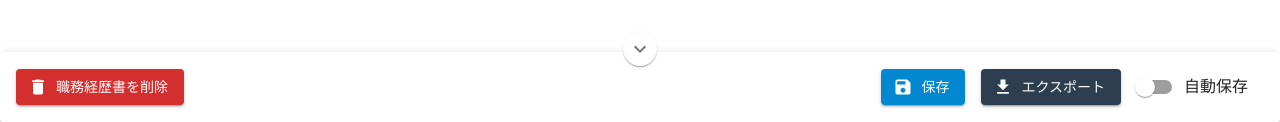
Scenario: BottomMenu › PC幅 › エクスポートからPDFを選ぶと、表示中の職務経歴書のプレビューを開き、メニューを閉じること
Click the button "エクスポート" at (1051, 87), box left=981, top=69, right=1121, bottom=105
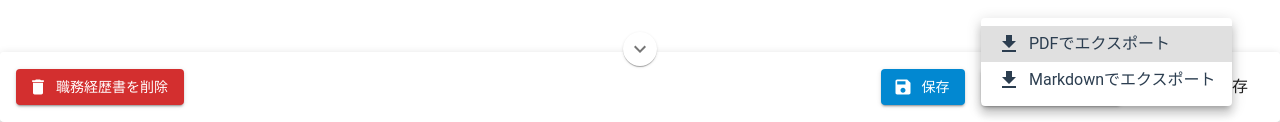
Click the menu item "PDFでエクスポート" at (1106, 44), box left=981, top=26, right=1232, bottom=62
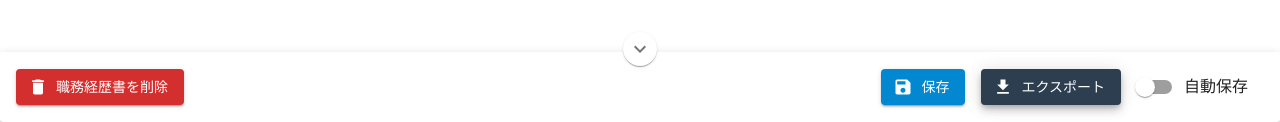
Result: the menu is gone
